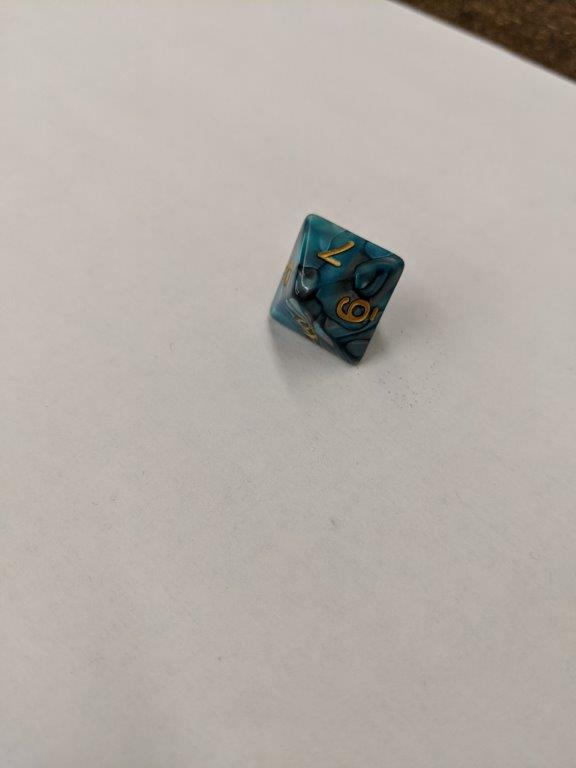d8-7: (266, 211, 405, 368)
